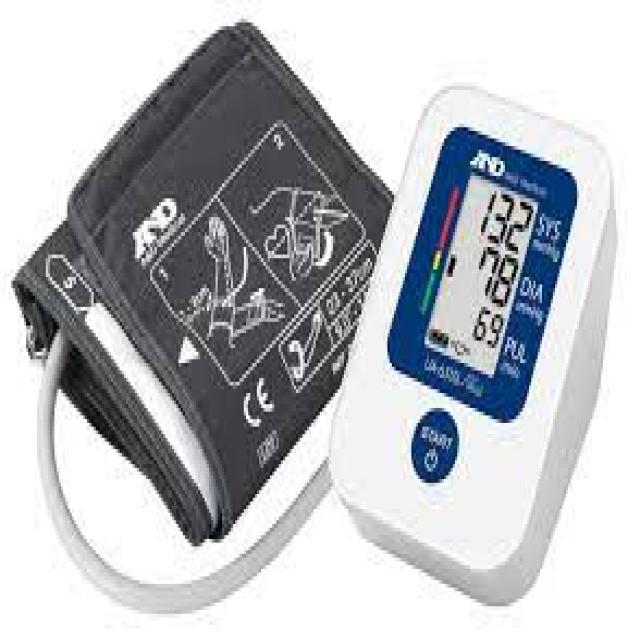dia: (465, 237, 527, 311)
pul: (454, 295, 520, 357)
ssd: (419, 169, 542, 377)
sys: (463, 179, 549, 261)
